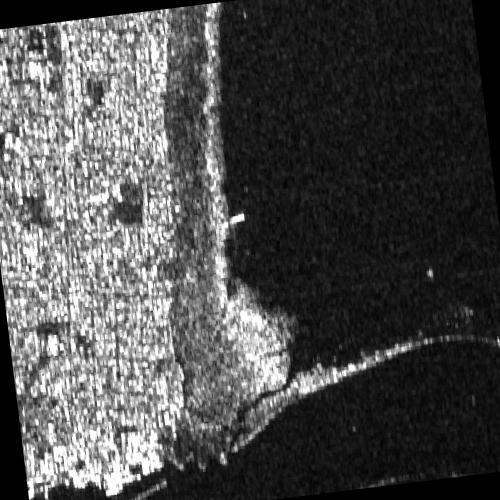ship: (228, 210, 245, 225)
